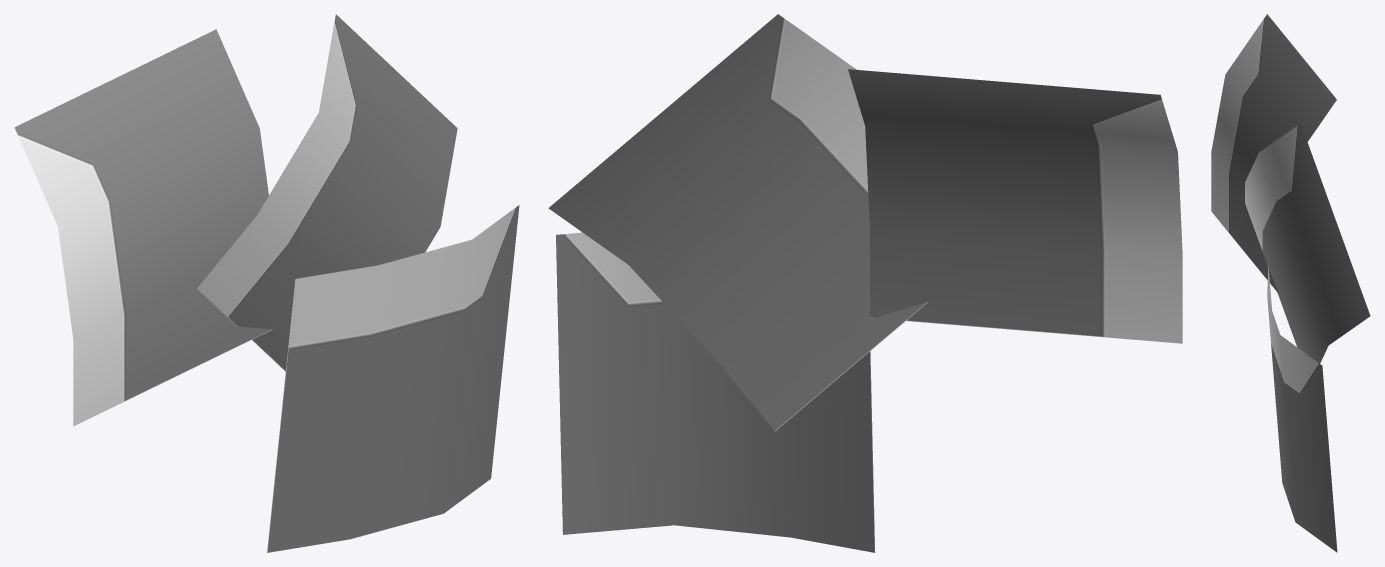
File: Mesh_Plumes.fbx
The picture shows the model from 3 angles, left to right: view 1: azimuth 30°, elevation 25°; view 2: azimuth 150°, elevation 25°; view 3: azimuth 270°, elevation 25°; orthographic projection. The views are drawn at different scales.
Parts seen in each view (by area): view 1: Plumes; view 2: Plumes; view 3: Plumes.
Boxes of the visible parts, box(x1,y1,x2,y2) form: Plumes: box(14, 14, 519, 552); Plumes: box(548, 14, 1182, 552); Plumes: box(1211, 14, 1370, 552).
Size of the model in its own units: 0.6069 by 0.5625 by 0.2206.
